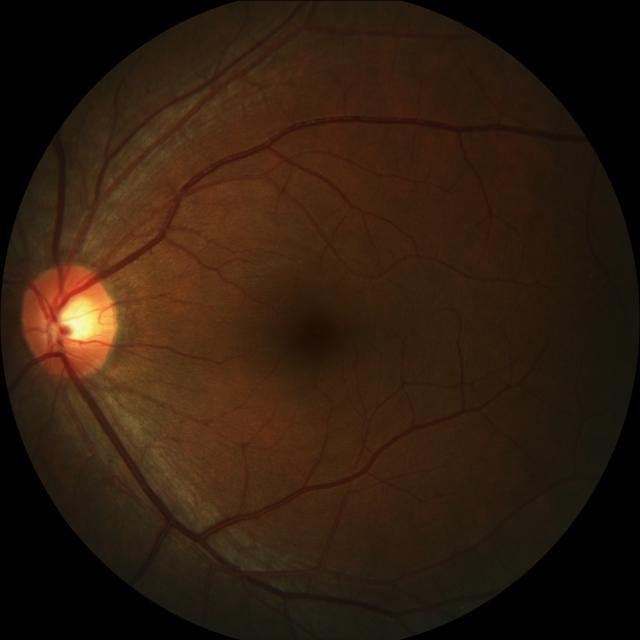OC: (59, 297, 98, 340)
OD: (24, 261, 120, 377)
